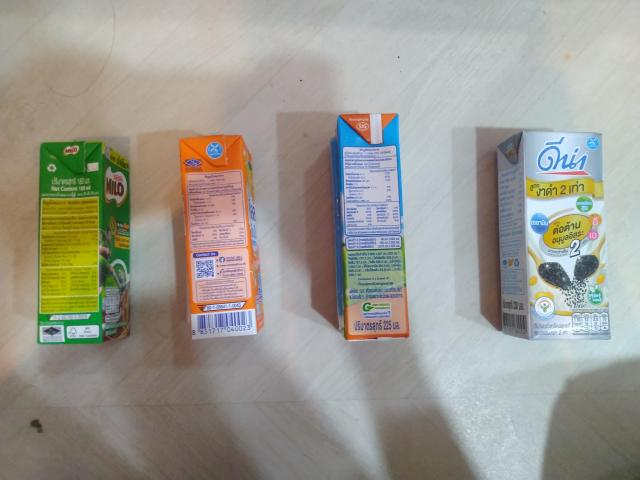drink_box: (490, 125, 630, 355), (316, 104, 430, 358), (35, 125, 144, 357), (168, 123, 272, 350)
